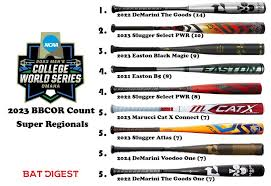baseball bat: (110, 121, 266, 139), (109, 164, 266, 178), (110, 2, 266, 16), (110, 21, 266, 35), (110, 42, 266, 56), (110, 142, 265, 156), (110, 102, 265, 115), (111, 62, 265, 75), (111, 82, 263, 95)
